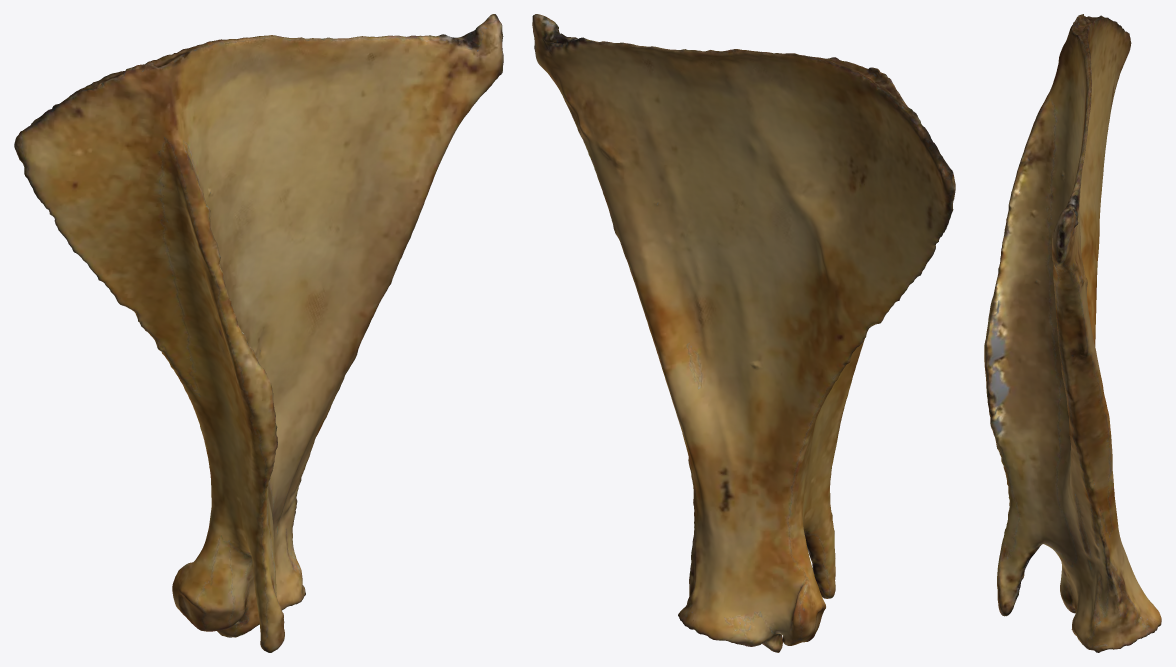
Rendered from scapula.glb.
3 renders of one model, left to right at view 1: azimuth 30°, elevation 25°; view 2: azimuth 150°, elevation 25°; view 3: azimuth 270°, elevation 25°, orthographic. The views are drawn at different scales.
Parts seen in each view (by area): view 1: Alpaca Scapula L.; view 2: Alpaca Scapula L.; view 3: Alpaca Scapula L..
Part boxes in pixels (x1=…): Alpaca Scapula L.: x1=14, y1=14, x2=503, y2=652; Alpaca Scapula L.: x1=532, y1=14, x2=955, y2=652; Alpaca Scapula L.: x1=984, y1=14, x2=1161, y2=652.
Bounding box in the file's own units: 0.1509 × 0.191 × 0.0533.
1 material, 1 textured.
